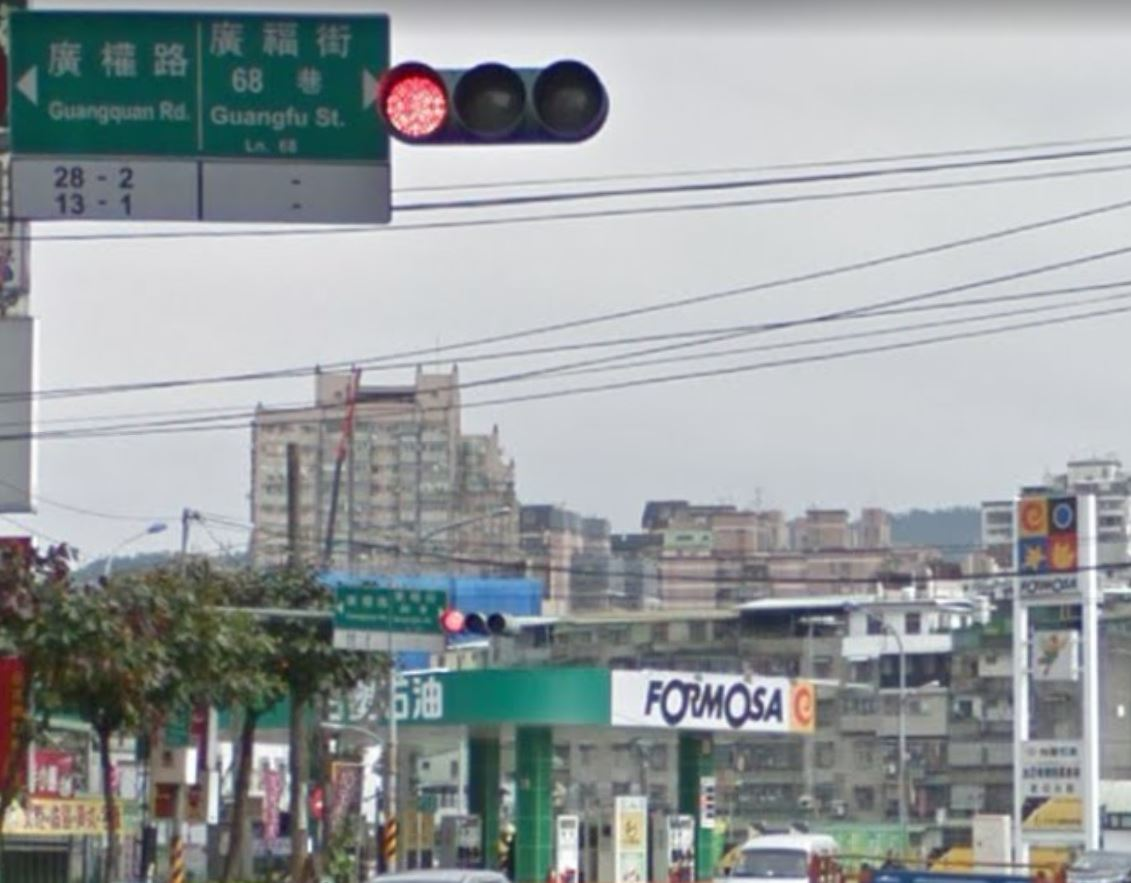Traffic_light_red: (374, 59, 610, 145)
